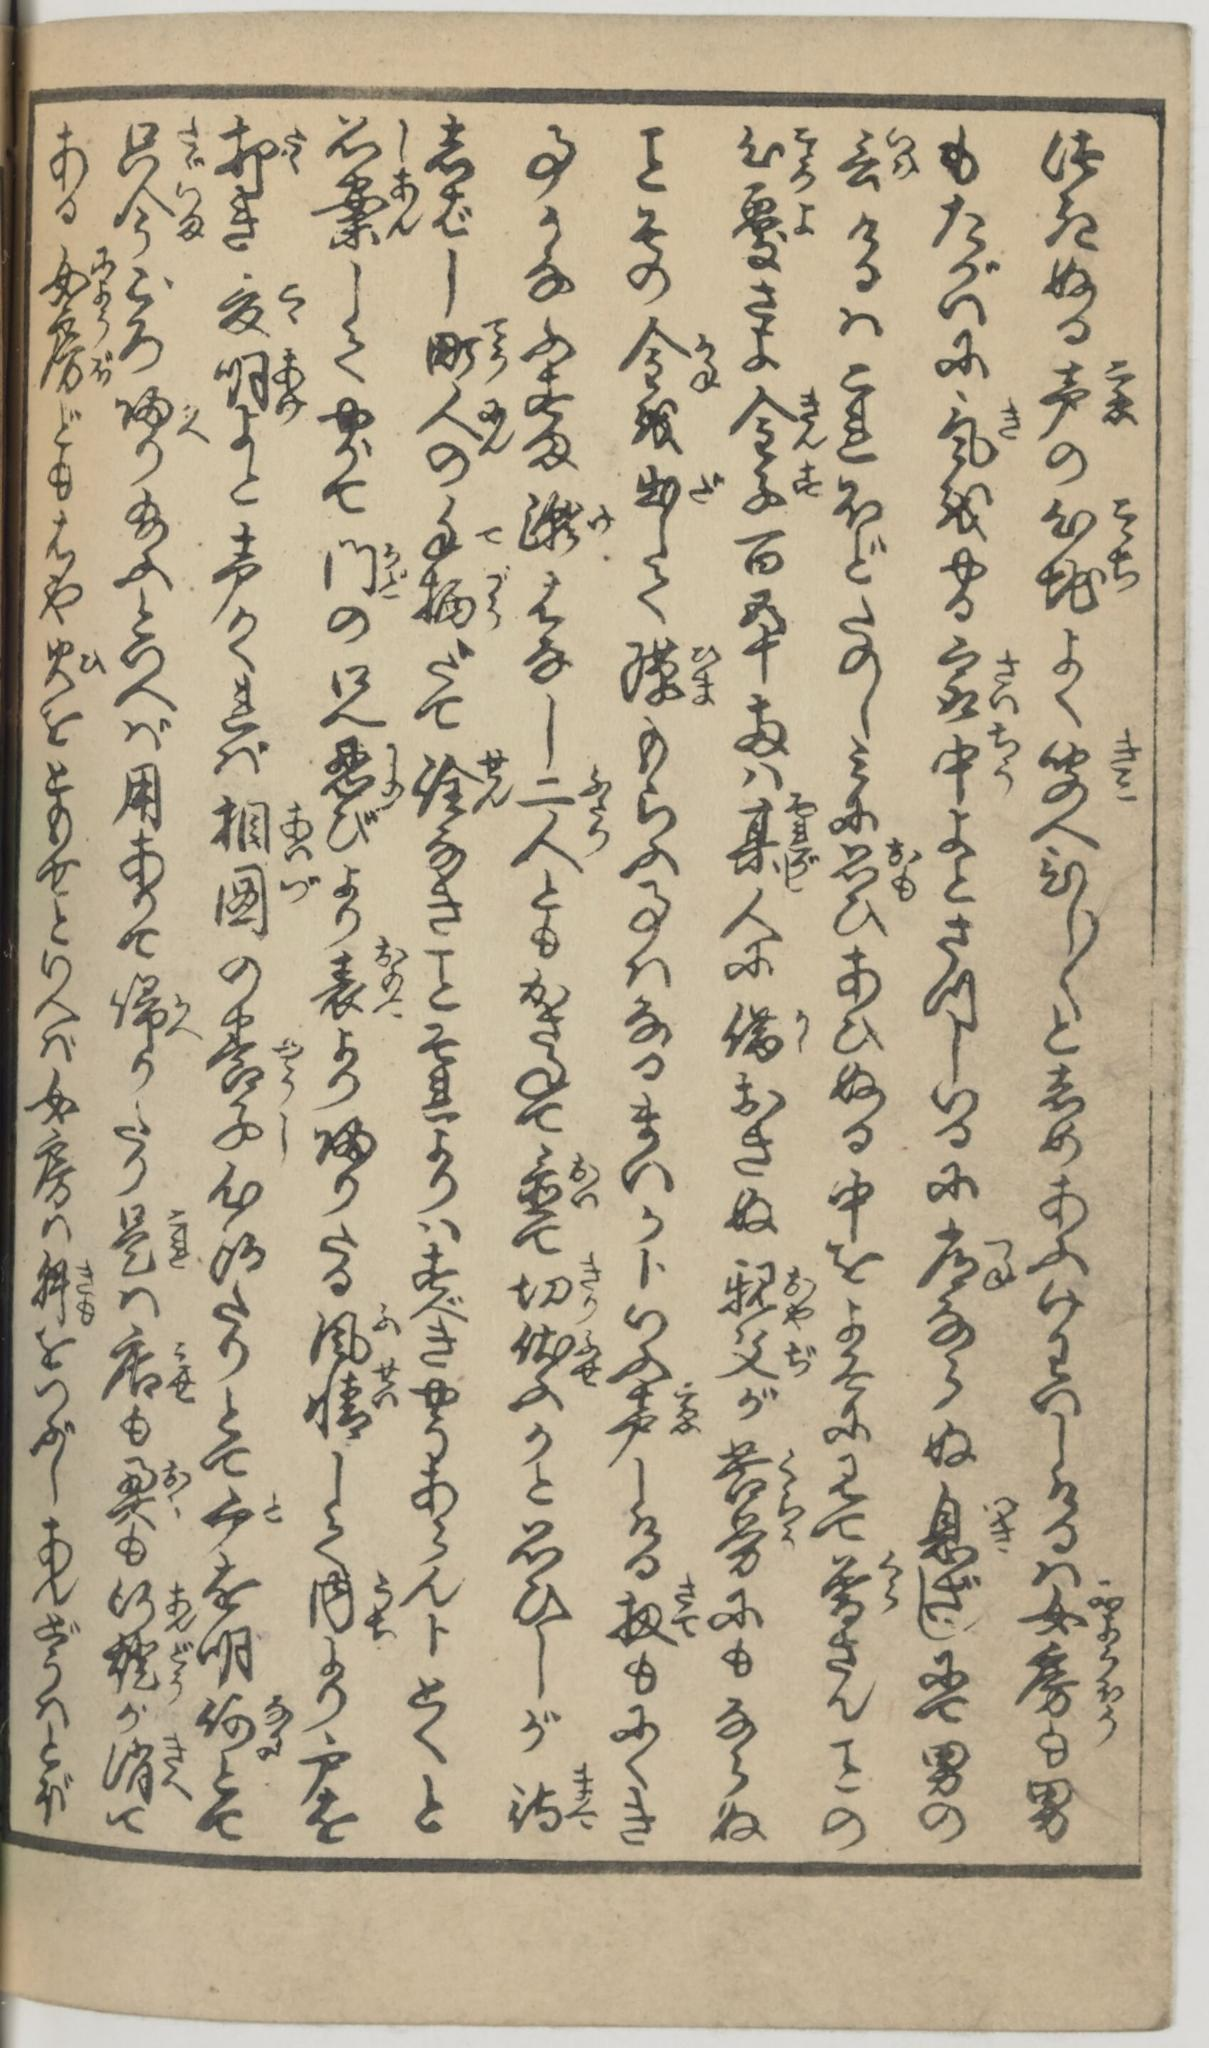MainZone-Character: (1012, 1648, 1140, 1741), (717, 794, 826, 891), (1031, 353, 1150, 440), (311, 167, 427, 255), (1035, 731, 1153, 817), (915, 1481, 1023, 1572), (712, 1251, 826, 1334), (495, 1760, 606, 1842), (406, 741, 512, 826), (918, 1219, 1023, 1304), (96, 1326, 201, 1410), (39, 240, 122, 347), (923, 387, 1025, 474), (312, 937, 415, 1023), (620, 320, 725, 403), (615, 632, 725, 710), (812, 1546, 910, 1634), (304, 1360, 404, 1445), (209, 865, 322, 940), (112, 176, 210, 262), (927, 721, 1026, 806), (596, 1386, 714, 1456), (603, 1573, 704, 1655), (104, 970, 206, 1051), (931, 633, 1028, 718), (101, 1449, 194, 1536), (1031, 554, 1146, 623), (515, 485, 620, 558), (731, 193, 825, 275), (206, 344, 308, 419), (299, 1564, 399, 1641), (214, 114, 308, 194), (36, 309, 121, 397), (209, 794, 317, 862), (413, 386, 522, 452), (504, 1252, 606, 1323), (314, 734, 406, 812), (727, 118, 826, 190), (101, 1733, 194, 1809), (826, 832, 927, 902), (312, 531, 412, 602), (512, 1138, 606, 1213), (413, 566, 514, 635), (101, 1634, 197, 1705), (720, 994, 819, 1064), (711, 1504, 806, 1576), (112, 1200, 200, 1278), (1013, 1590, 1137, 1645), (734, 386, 832, 455), (206, 1035, 305, 1102), (191, 1694, 292, 1759), (517, 810, 613, 878), (422, 315, 518, 383), (712, 1436, 809, 1504), (1032, 495, 1147, 551), (301, 1300, 404, 1361), (196, 1484, 294, 1549), (839, 121, 923, 196), (109, 114, 210, 174), (29, 1243, 99, 1328), (114, 387, 214, 446), (508, 1327, 606, 1387), (628, 466, 735, 521), (320, 108, 419, 167), (214, 271, 309, 331), (718, 1337, 822, 1390), (417, 501, 508, 561), (740, 456, 826, 520), (207, 1110, 307, 1164), (109, 1579, 199, 1635), (35, 630, 109, 697), (515, 764, 613, 807)
MainZone-Ruby: (780, 794, 825, 891), (380, 166, 426, 248), (1098, 354, 1146, 432), (1090, 1648, 1127, 1737), (977, 1488, 1022, 1559), (86, 245, 119, 340), (1105, 734, 1149, 806), (371, 937, 410, 1015), (879, 833, 924, 900), (563, 1763, 604, 1831), (974, 1232, 1019, 1294), (986, 725, 1023, 799), (361, 1563, 399, 1636), (474, 746, 511, 817), (478, 567, 518, 633), (269, 348, 308, 416), (158, 1731, 194, 1803), (167, 180, 206, 246), (1079, 1593, 1128, 1645), (161, 1452, 194, 1527), (275, 796, 314, 859), (987, 649, 1022, 718), (786, 1259, 820, 1328), (687, 327, 721, 396), (786, 125, 822, 191), (875, 1550, 911, 1616), (166, 1337, 199, 1409), (476, 394, 515, 455), (687, 638, 721, 704), (569, 1148, 604, 1212), (669, 1573, 701, 1644), (666, 1385, 707, 1439), (884, 124, 923, 180), (794, 387, 830, 446), (173, 114, 209, 173), (163, 1203, 193, 1272), (368, 1360, 407, 1413), (271, 1038, 304, 1100), (167, 990, 203, 1046), (577, 1256, 607, 1323), (482, 315, 514, 377), (773, 1441, 806, 1498), (164, 1639, 194, 1701), (269, 1108, 301, 1167), (379, 541, 410, 600), (571, 1328, 603, 1386), (261, 1697, 292, 1754), (380, 738, 404, 812), (1107, 494, 1141, 545), (787, 459, 826, 505), (273, 275, 308, 324), (73, 1255, 96, 1328), (684, 468, 727, 507), (273, 868, 320, 904), (783, 1338, 822, 1380), (164, 1582, 197, 1631), (256, 1487, 292, 1531), (586, 491, 616, 543), (583, 812, 615, 861), (1104, 553, 1140, 594), (174, 400, 210, 442), (580, 767, 615, 809), (996, 394, 1022, 449), (370, 1302, 406, 1341), (279, 119, 307, 170), (390, 112, 415, 166), (475, 514, 510, 551), (786, 1006, 813, 1052), (776, 1507, 805, 1550), (789, 199, 818, 240), (75, 638, 104, 679), (88, 351, 118, 387)
